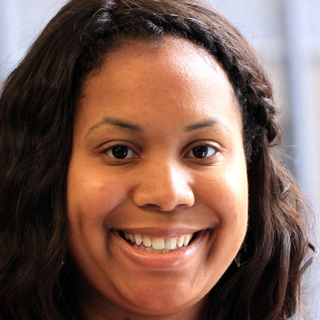eye: (90, 138, 144, 167), (171, 138, 223, 162)
